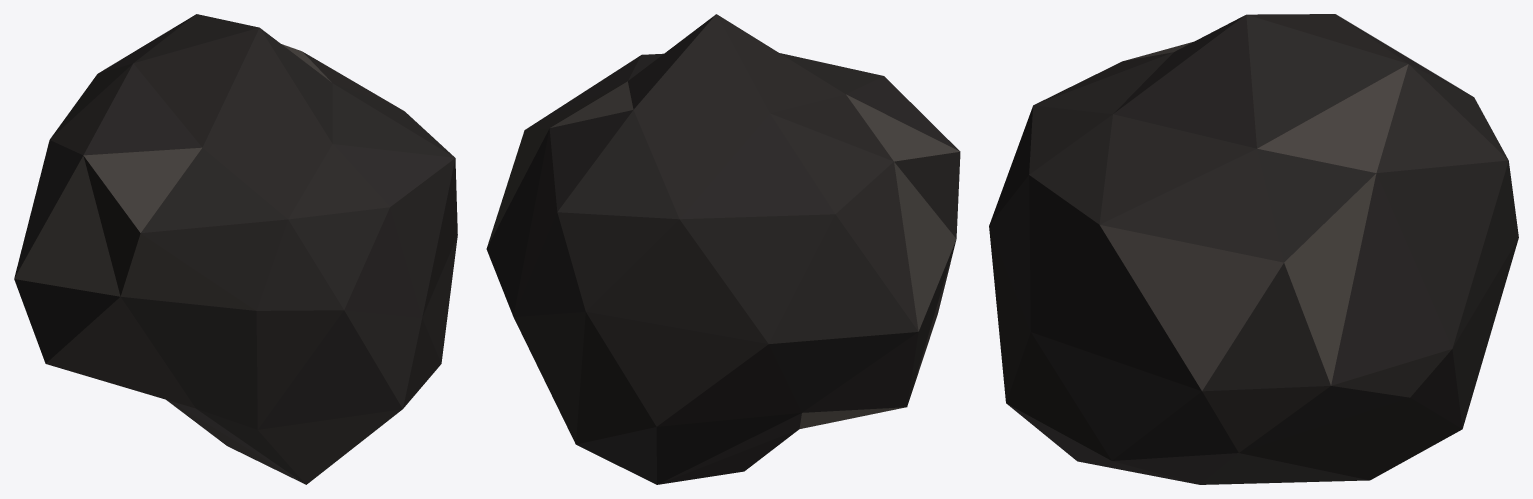
Rendered from SmallCoal.fbx.
3 renders of one model, left to right at view 1: azimuth 30°, elevation 25°; view 2: azimuth 150°, elevation 25°; view 3: azimuth 270°, elevation 25°, orthographic. The views are drawn at different scales.
Parts seen in each view (by area): view 1: SmallCoal; view 2: SmallCoal; view 3: SmallCoal.
Part boxes in pixels (x1,y1,x2,y2): SmallCoal: (14,14,457,484); SmallCoal: (486,14,960,484); SmallCoal: (989,14,1518,484).
Bounding box in the file's own units: 1 × 1 × 1.
1 material, 1 textured.
